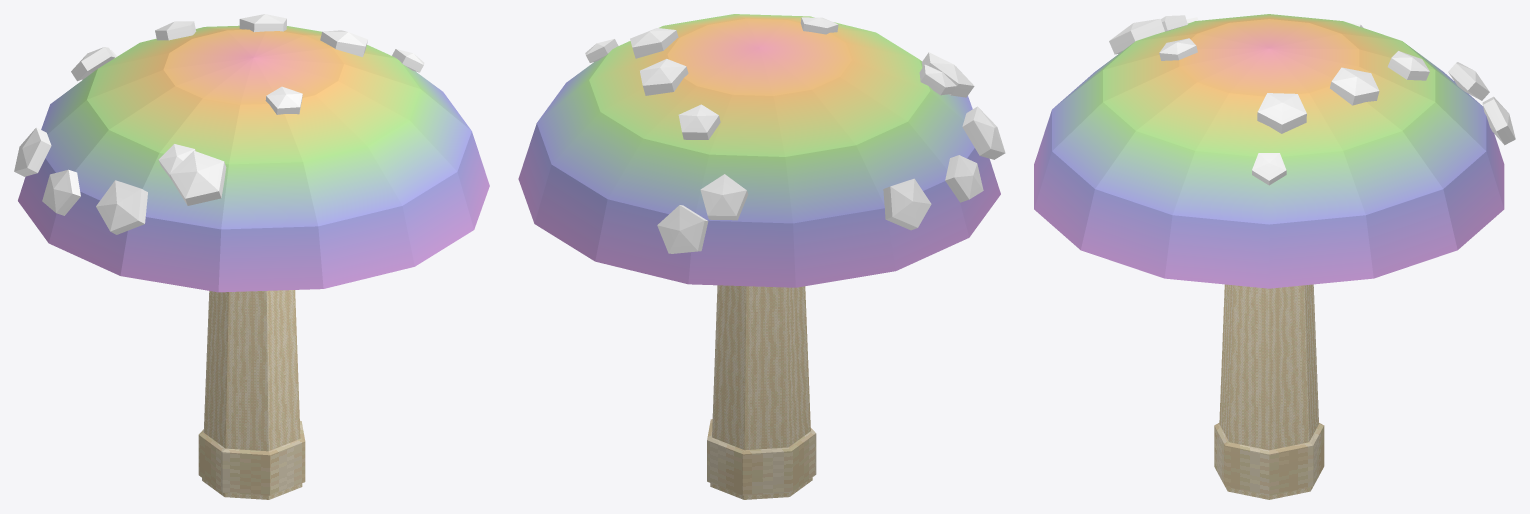
Rendered from rainbow_cap.glb.
3 views of the same model, side by side, from view 1: azimuth 30°, elevation 25°; view 2: azimuth 150°, elevation 25°; view 3: azimuth 270°, elevation 25° (orthographic). The views are drawn at different scales.
Visible parts, largest first — view 1: rainbow_cap; view 2: rainbow_cap; view 3: rainbow_cap.
Boxes of the visible parts, x1,y1,x2,y2 form: rainbow_cap: (14, 14, 489, 499); rainbow_cap: (518, 14, 1005, 499); rainbow_cap: (1034, 14, 1515, 499).
Bounding box in the file's own units: 9.27 × 9.35 × 9.19.
3 materials, 2 textured.
